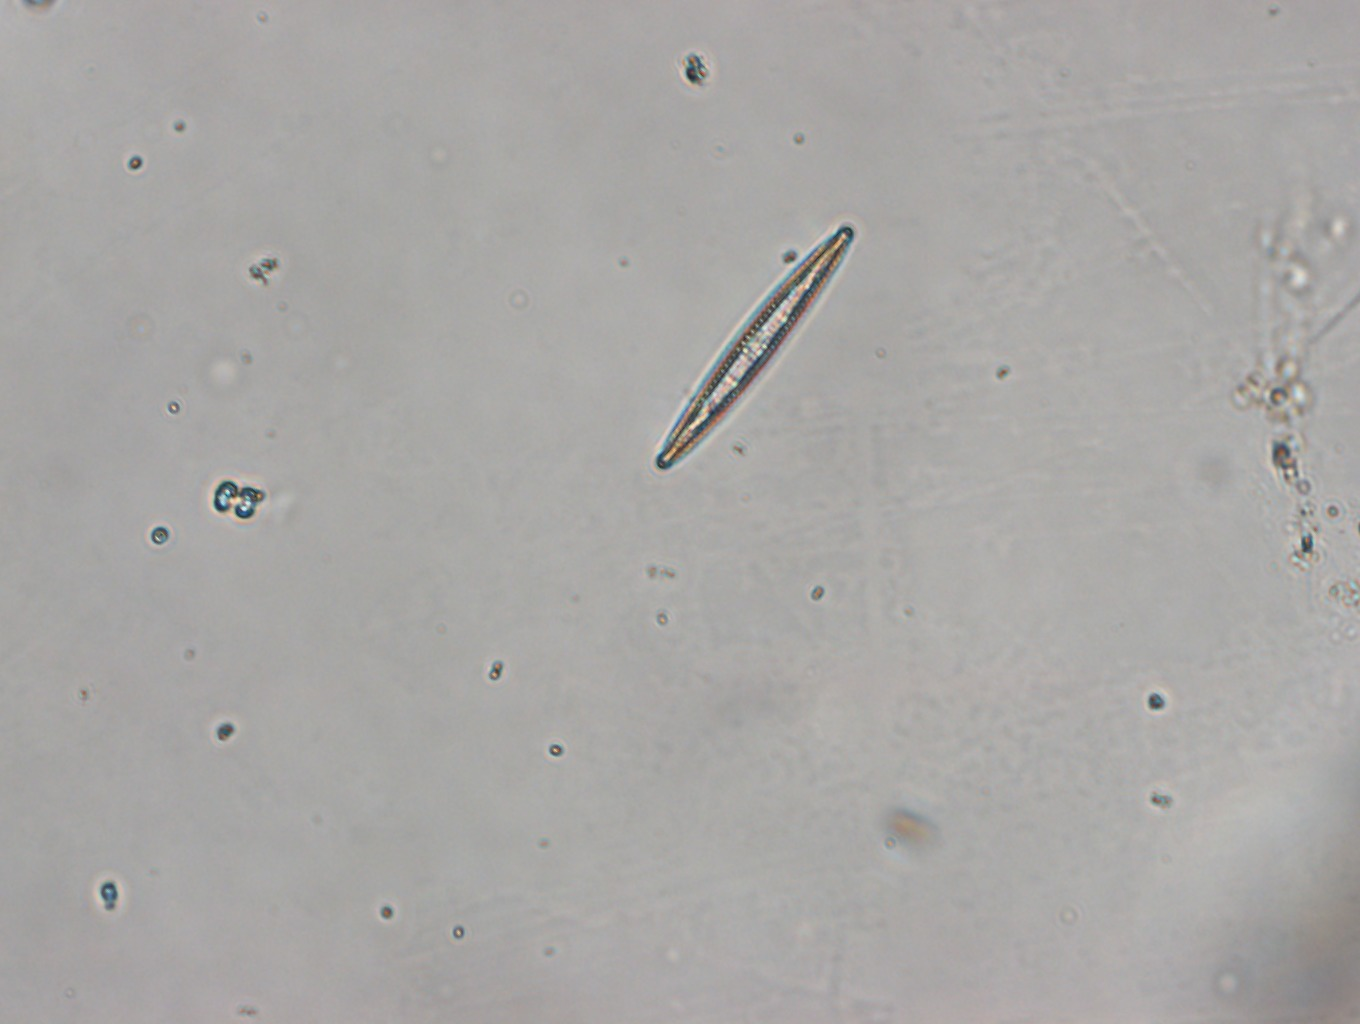navicula: (652, 222, 855, 474)
